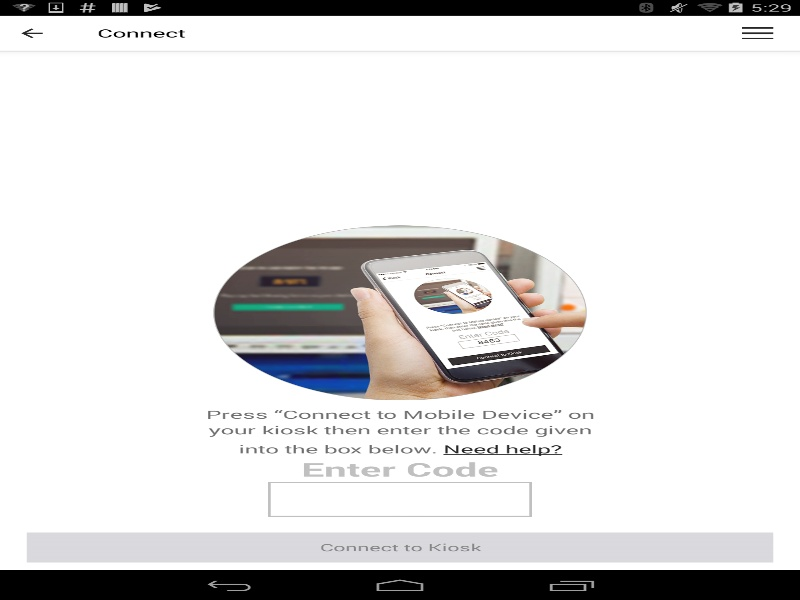Button: (26, 532, 773, 562), (714, 15, 800, 50)
Input: (268, 481, 532, 516)
